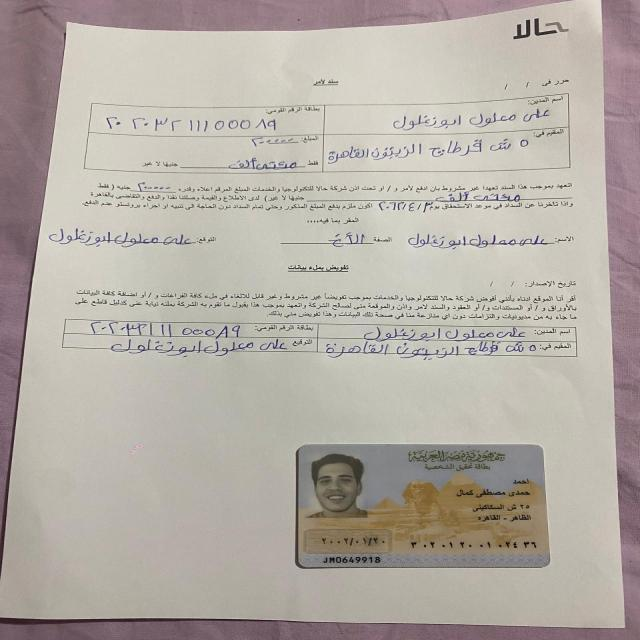id_card: (289, 439, 555, 575)
